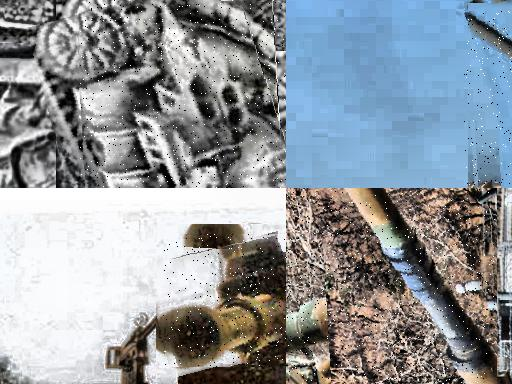tanks: (80, 1, 287, 189), (348, 189, 497, 384), (165, 235, 287, 368), (107, 303, 174, 384), (476, 374, 512, 384)
